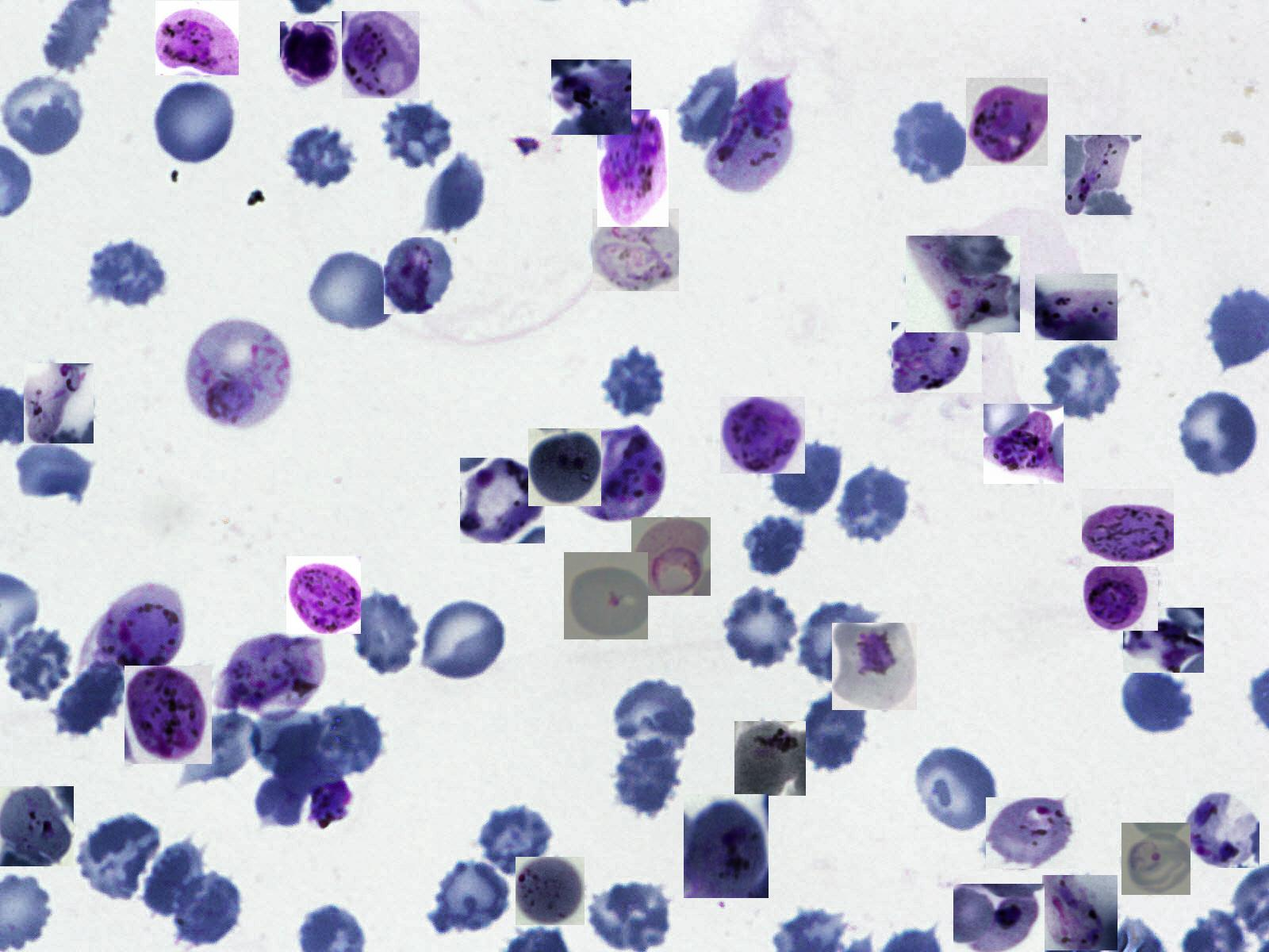Infected: (182, 319, 293, 432), (701, 71, 796, 194), (906, 236, 1020, 332), (79, 580, 187, 679), (217, 632, 326, 722), (684, 794, 769, 898), (577, 424, 665, 522), (125, 666, 212, 764), (597, 109, 669, 227), (832, 623, 917, 710), (564, 552, 648, 639), (460, 458, 545, 543), (592, 209, 679, 292), (966, 78, 1048, 166), (1082, 489, 1174, 563), (342, 11, 420, 98), (986, 797, 1079, 869), (720, 397, 805, 474), (983, 404, 1064, 484), (891, 322, 982, 393), (631, 517, 711, 596), (953, 884, 1045, 952), (155, 2, 239, 75), (1065, 135, 1141, 215), (551, 60, 631, 135), (0, 786, 74, 866), (286, 556, 361, 634), (1042, 875, 1118, 950), (528, 428, 601, 506), (384, 237, 457, 314), (24, 363, 94, 443), (1186, 792, 1259, 868), (1035, 274, 1118, 340), (734, 721, 806, 796), (1123, 608, 1204, 673), (1121, 823, 1190, 895), (1083, 566, 1158, 631), (516, 857, 585, 925), (280, 21, 342, 87)
Uninfected: (912, 742, 1003, 835), (74, 813, 163, 906), (1175, 387, 1263, 478), (308, 250, 399, 334), (419, 598, 511, 681), (611, 677, 700, 761), (151, 80, 237, 166), (720, 583, 803, 672), (1039, 341, 1129, 422), (798, 599, 882, 681), (891, 101, 972, 185), (1, 74, 83, 155), (349, 589, 423, 678), (305, 701, 389, 778), (608, 737, 684, 822), (836, 463, 912, 547), (799, 688, 874, 773), (427, 859, 510, 935), (82, 234, 169, 306), (178, 708, 259, 785), (140, 833, 208, 923), (419, 149, 489, 235), (587, 882, 672, 952), (768, 435, 842, 513), (475, 805, 554, 877), (173, 866, 247, 942), (50, 664, 129, 735), (12, 440, 98, 504), (674, 60, 738, 145), (1120, 666, 1196, 737), (603, 343, 673, 419), (1, 628, 71, 704), (382, 104, 462, 167), (742, 509, 812, 578), (284, 124, 356, 189)
